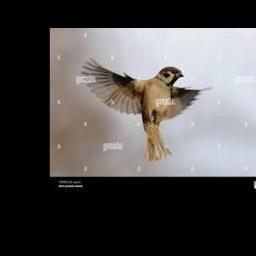Sparrow: (82, 58, 213, 161)
